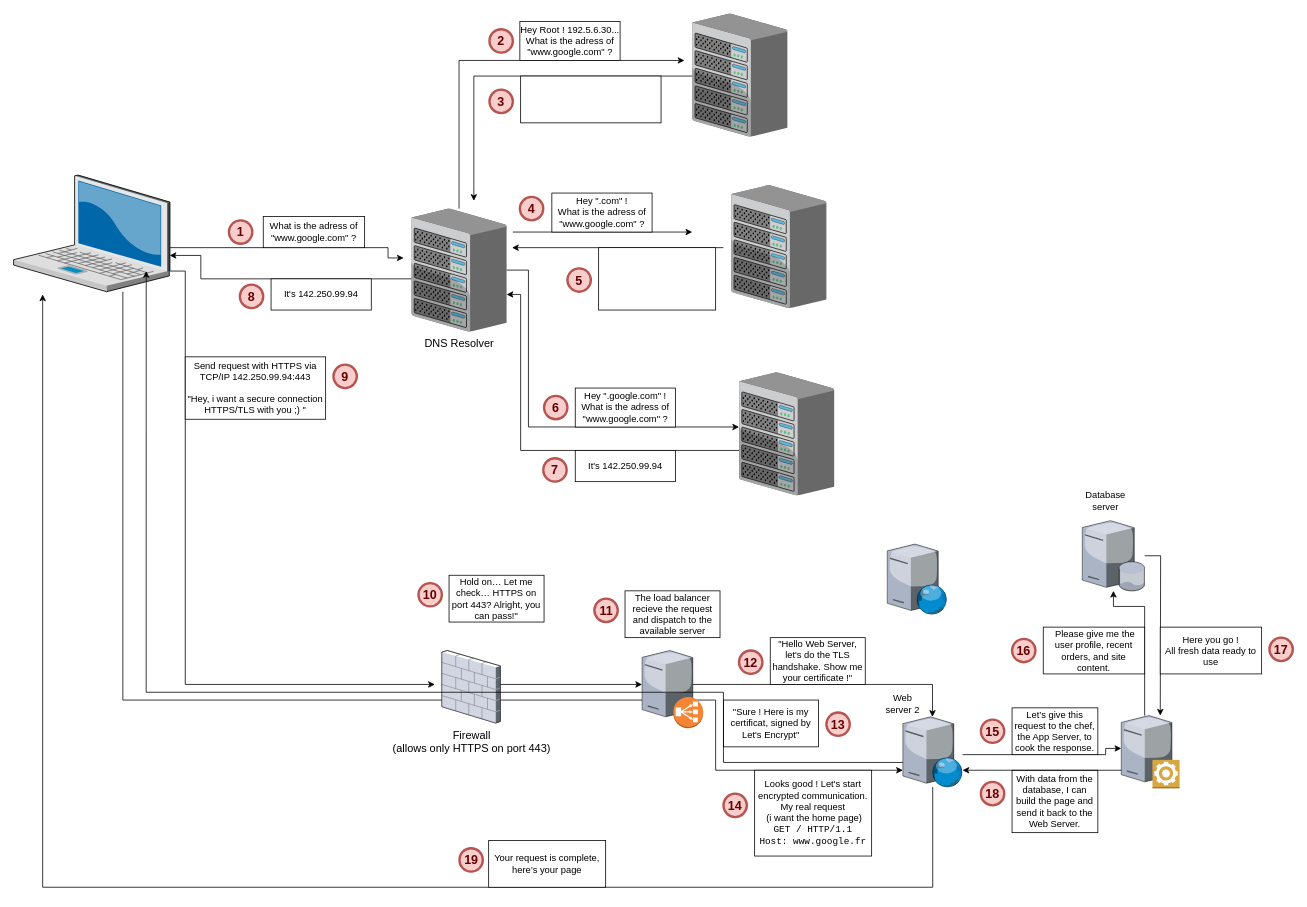
This 1307x907 diagram has some shape labels left out. Each missing label, with the box of its shape:
App Server: (1121, 715, 1172, 781)
Authoritative DNS Root Server: (692, 13, 787, 136)
Authoritative DNS Server a.gtld-servers.net 192.5.6.30: (731, 185, 826, 308)
Authoritative DNS Server ns1.google.com 216.239.32.10: (739, 372, 834, 495)
Client: (13, 175, 170, 291)
I dont know. I just know ".com" . Ask it : a.gtld-servers.net 192.5.6.30: (520, 75, 661, 123)
I dont know. I just know ".google.com" Ask it ! ns1.google.com 216.239.32.10: (598, 247, 716, 310)
Load Balancer: (642, 650, 692, 716)
Web server 1: (887, 544, 947, 614)
